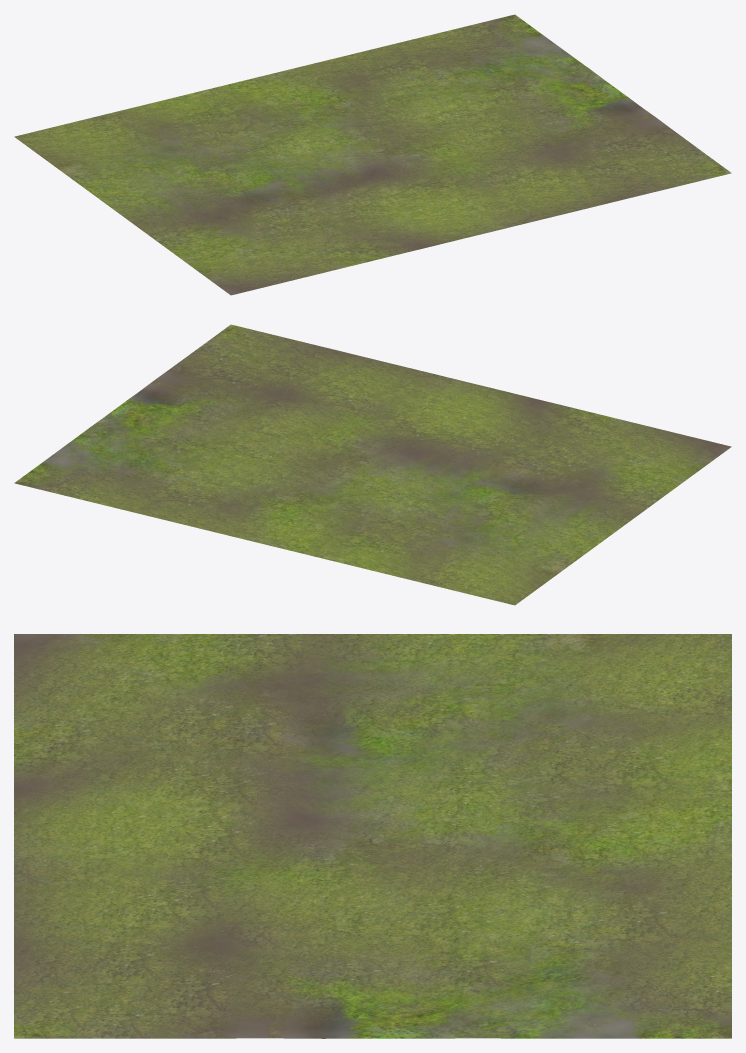
The model's file is Ground-Low-L1-01.fbx.
The picture shows the model from 3 angles, top to bottom: view 1: azimuth 30°, elevation 25°; view 2: azimuth 150°, elevation 25°; view 3: azimuth 270°, elevation 25°; orthographic projection. The views are drawn at different scales.
Visible parts, largest first — view 1: Landscape.027; view 2: Landscape.027; view 3: Landscape.027.
Boxes of the visible parts, bbox=[...] form: Landscape.027: bbox=[14, 14, 731, 295]; Landscape.027: bbox=[14, 324, 731, 605]; Landscape.027: bbox=[14, 634, 731, 1038].
Size of the model in its own units: 80 by 0.8023 by 60.
